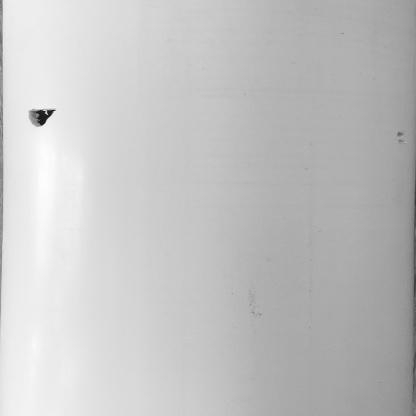kongdong: (19, 105, 62, 131)
